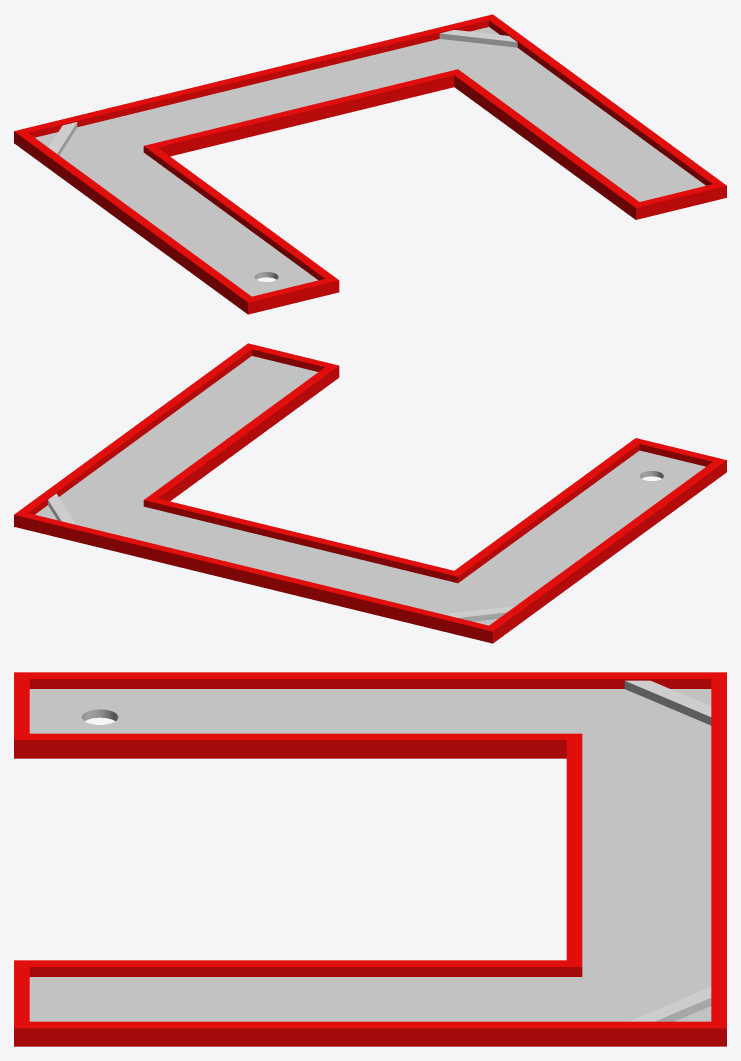
File: BahnM7.fbx
3 renders of one model, top to bottom at view 1: azimuth 30°, elevation 25°; view 2: azimuth 150°, elevation 25°; view 3: azimuth 270°, elevation 25°, orthographic. The views are drawn at different scales.
Visible parts, largest first — view 1: Track7; view 2: Track7; view 3: Track7.
Boxes of the visible parts, box(x1,y1,x2,y2) form: Track7: box(14, 14, 726, 314); Track7: box(14, 343, 726, 643); Track7: box(14, 672, 726, 1046).
Bounding box in the file's own units: 457 × 11 × 387.
